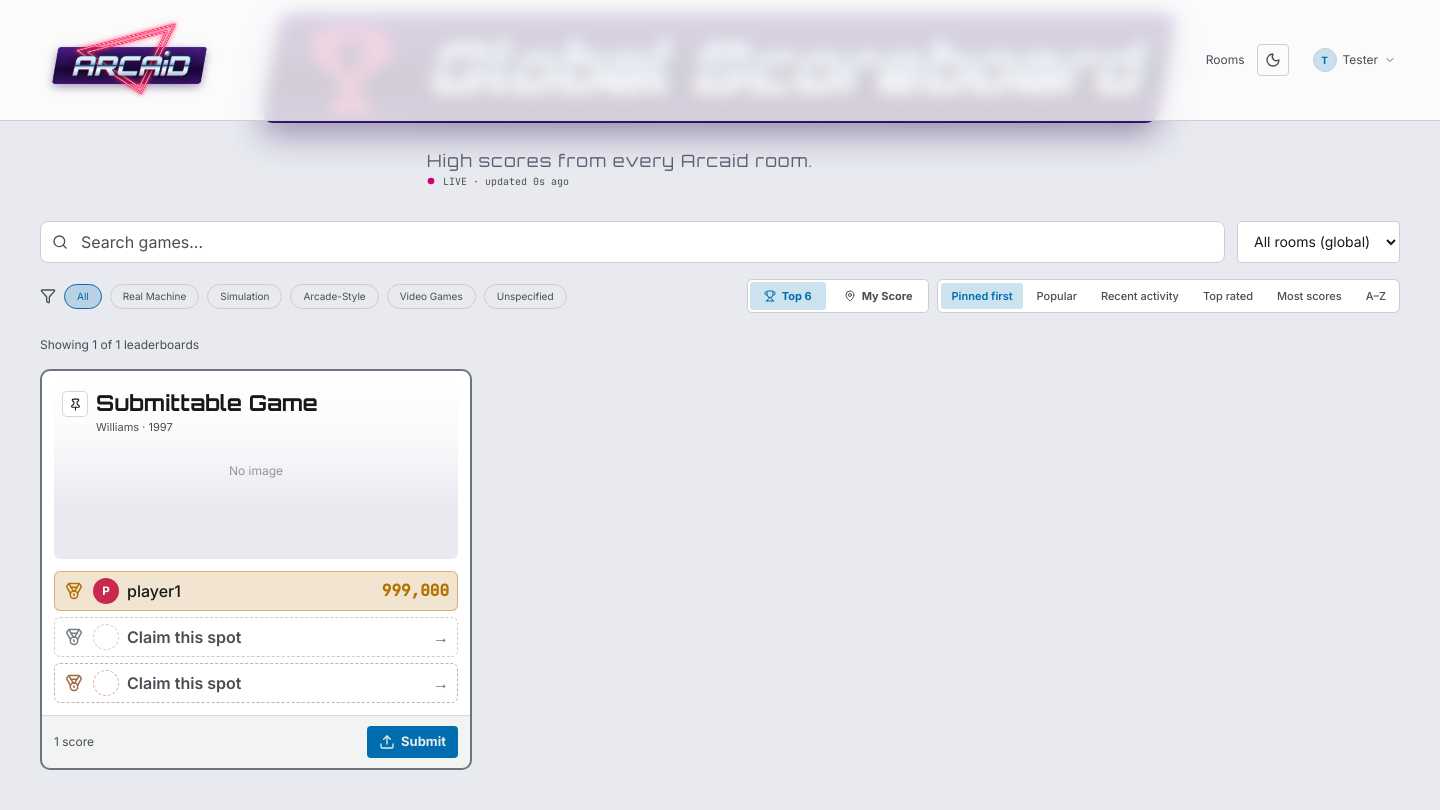
GlobalScoreboard card (v2.50.0 A2) › the footer Submit button opens SubmissionSheet for a signed-in viewer
(page scrolled)
Step 1. Click the button "Submit" → (412, 742), box [367,726,458,758]
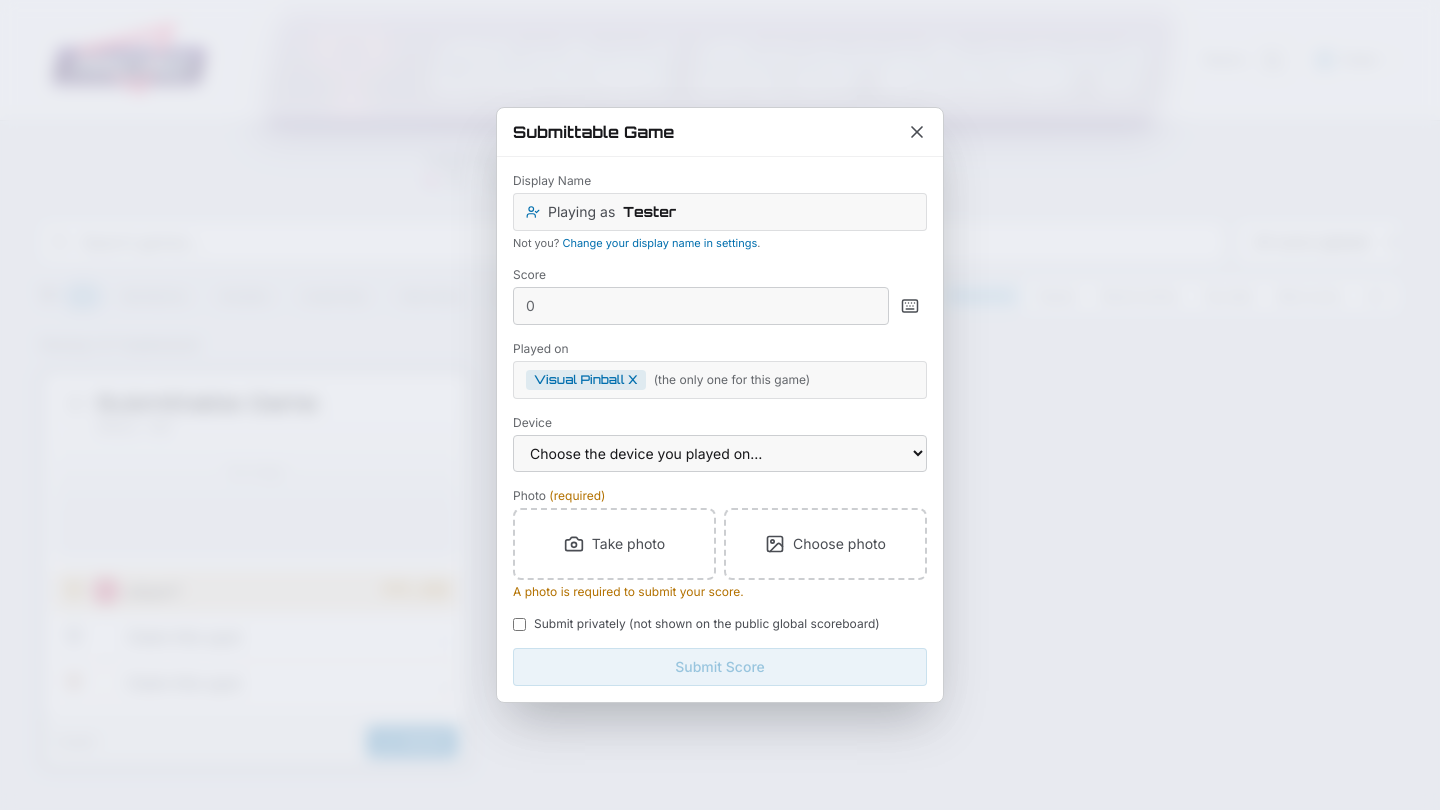
Expected: the heading "Submittable Game" is shown, [513,120,674,144]
